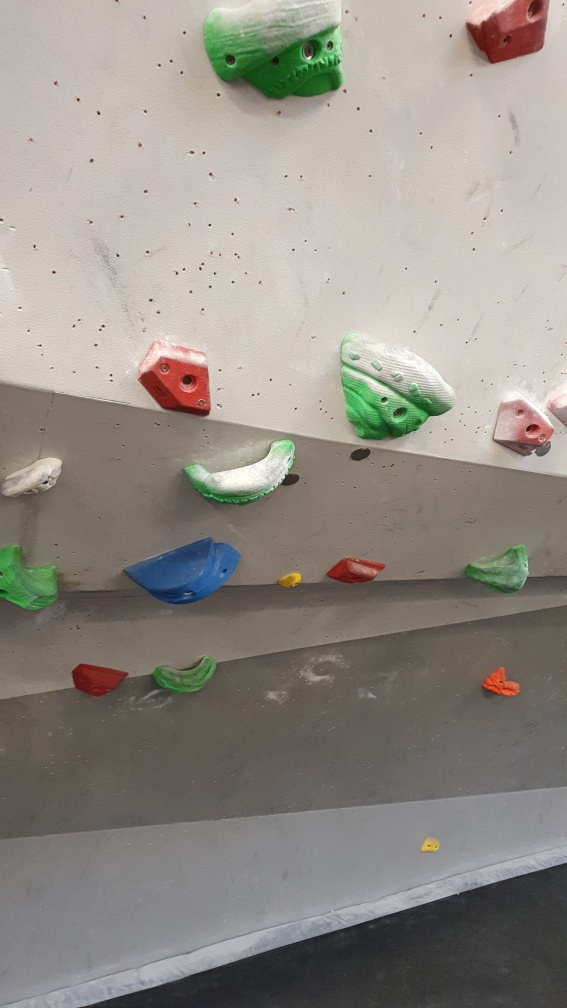Crimp: (134, 338, 210, 417), (466, 1, 547, 69), (500, 402, 557, 462), (323, 558, 386, 592)
Hand Start: (350, 442, 374, 463), (285, 472, 299, 490)
Jug: (208, 1, 353, 104), (338, 331, 459, 443), (181, 436, 299, 508), (1, 546, 67, 613), (465, 539, 533, 596), (1, 454, 66, 505), (157, 655, 223, 696), (485, 667, 521, 698)
Pinch: (126, 540, 245, 607)
